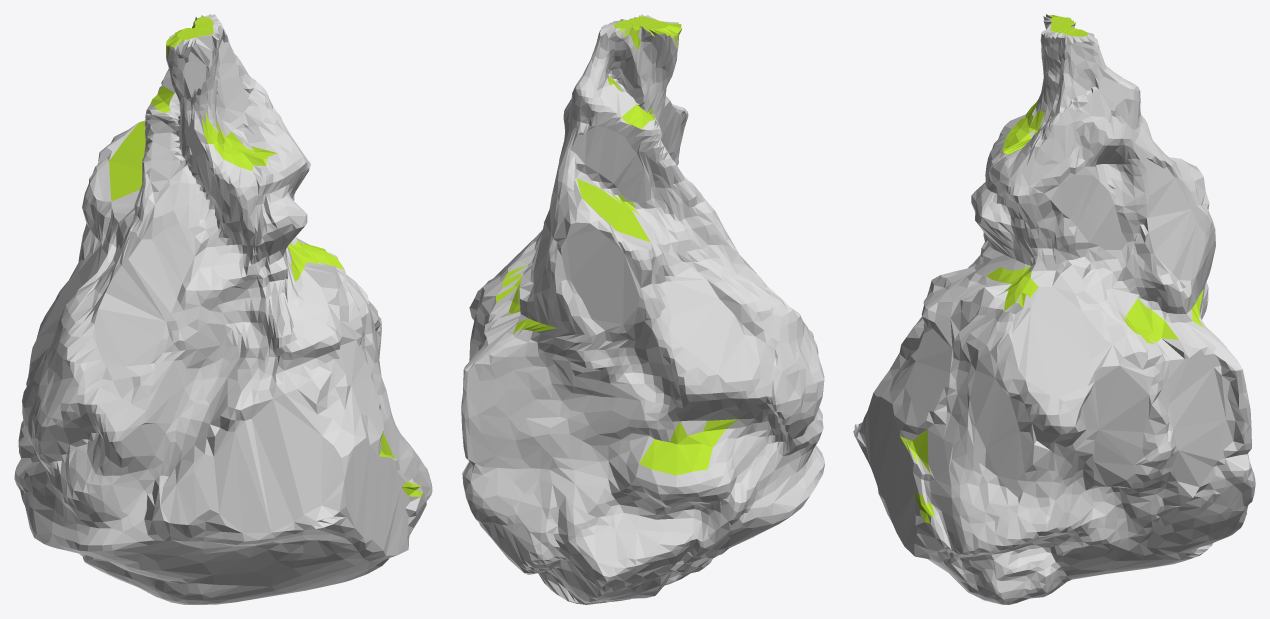
The model's file is rock_formation_1.fbx.
The picture shows the model from 3 angles, left to right: view 1: azimuth 30°, elevation 25°; view 2: azimuth 150°, elevation 25°; view 3: azimuth 270°, elevation 25°; orthographic projection. The views are drawn at different scales.
Parts seen in each view (by area): view 1: Cube; view 2: Cube; view 3: Cube.
Boxes of the visible parts, x1,y1,x2,y2 form: Cube: (14,14,432,604); Cube: (461,14,824,604); Cube: (853,14,1255,604).
Size of the model in its own units: 4318 by 6341 by 4367.
